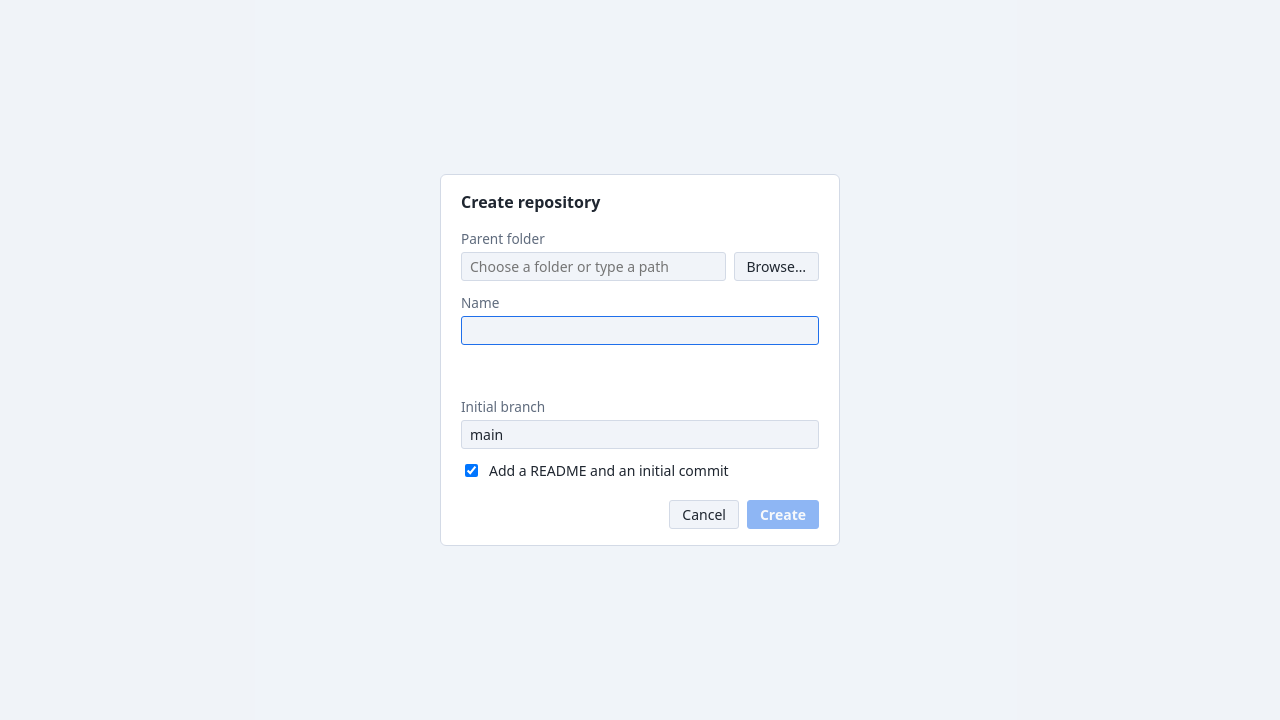
it: CreateRepoDialog › disables Create without a name and shows the path preview
This screenshot has width=1280, height=720.
Type "/p" into the field named "Parent folder" at (593, 267), box [461, 252, 726, 281]
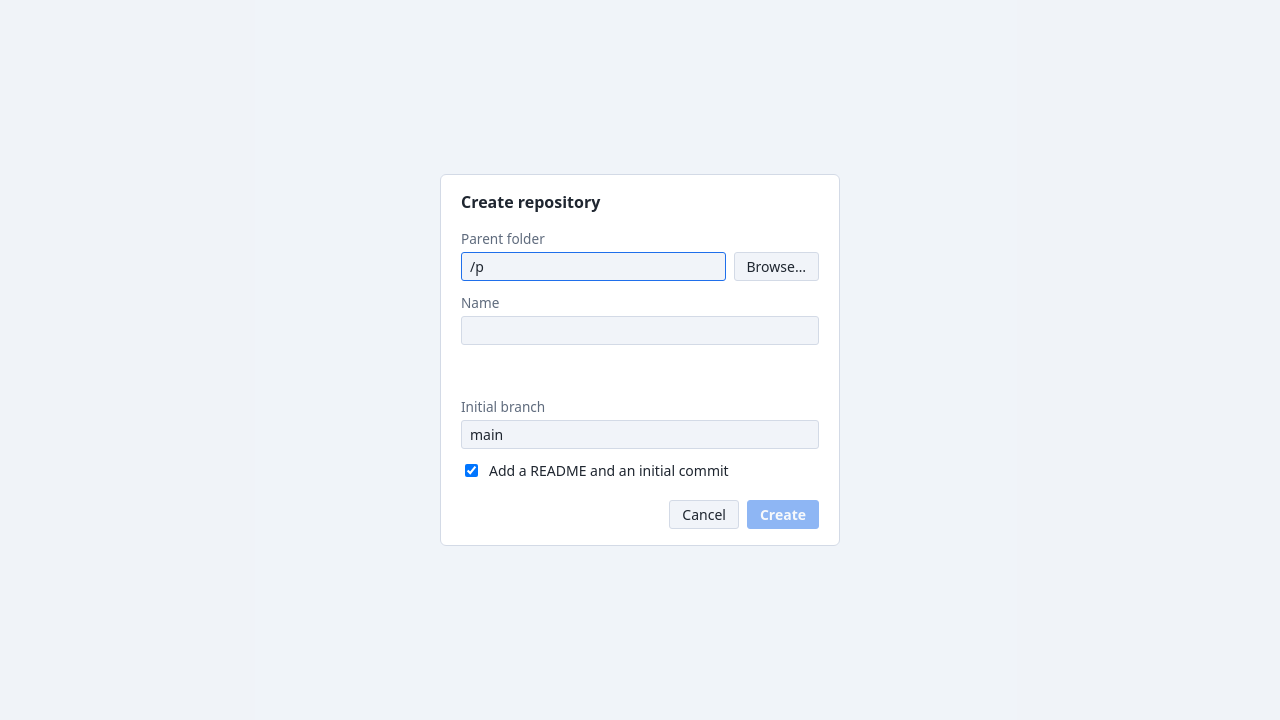
Expected: the button "Create" is disabled, [747, 500, 819, 529]
Type "proj" into the field labelled "Name" at (640, 331), box [461, 316, 819, 345]
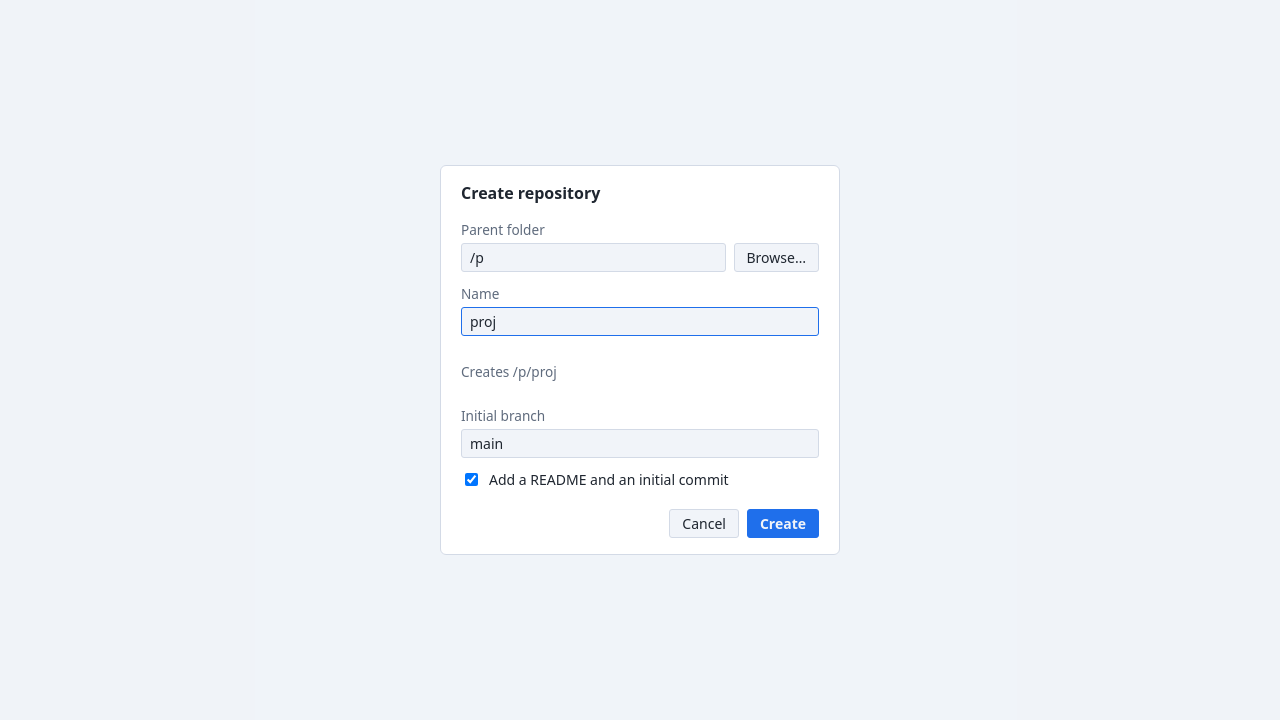
Expected: the button "Create" is enabled, [747, 509, 819, 538]
Expected: the text "Creates /p/proj" is shown, [461, 362, 557, 380]
